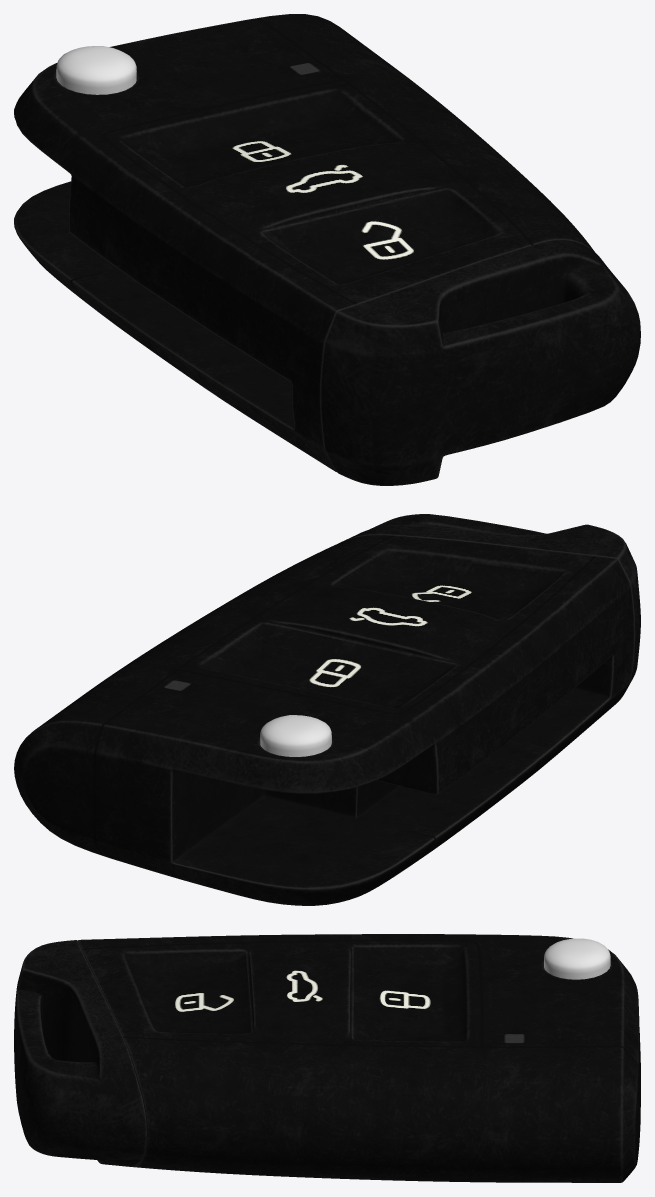
Rendered from key fob.glb.
3 renders of one model, top to bottom at view 1: azimuth 30°, elevation 25°; view 2: azimuth 150°, elevation 25°; view 3: azimuth 270°, elevation 25°, orthographic. The views are drawn at different scales.
Parts seen in each view (by area): view 1: key_fob, key_fob_bottom, key_release; view 2: key_fob, key_fob_bottom, key_release; view 3: key_fob, key_fob_bottom, key_release.
Part boxes in pixels (x1,y1,x2,y2): key_fob: [14, 14, 594, 471]; key_fob_bottom: [321, 239, 640, 485]; key_release: [56, 46, 136, 94]; key_fob: [14, 535, 634, 905]; key_fob_bottom: [342, 514, 640, 701]; key_release: [260, 715, 331, 756]; key_fob: [77, 934, 640, 1182]; key_fob_bottom: [14, 940, 146, 1166]; key_release: [544, 938, 610, 979].
Bounding box in the file's own units: 0.0417 × 0.019 × 0.0709.
Materials: 3 (3 with a texture image).
